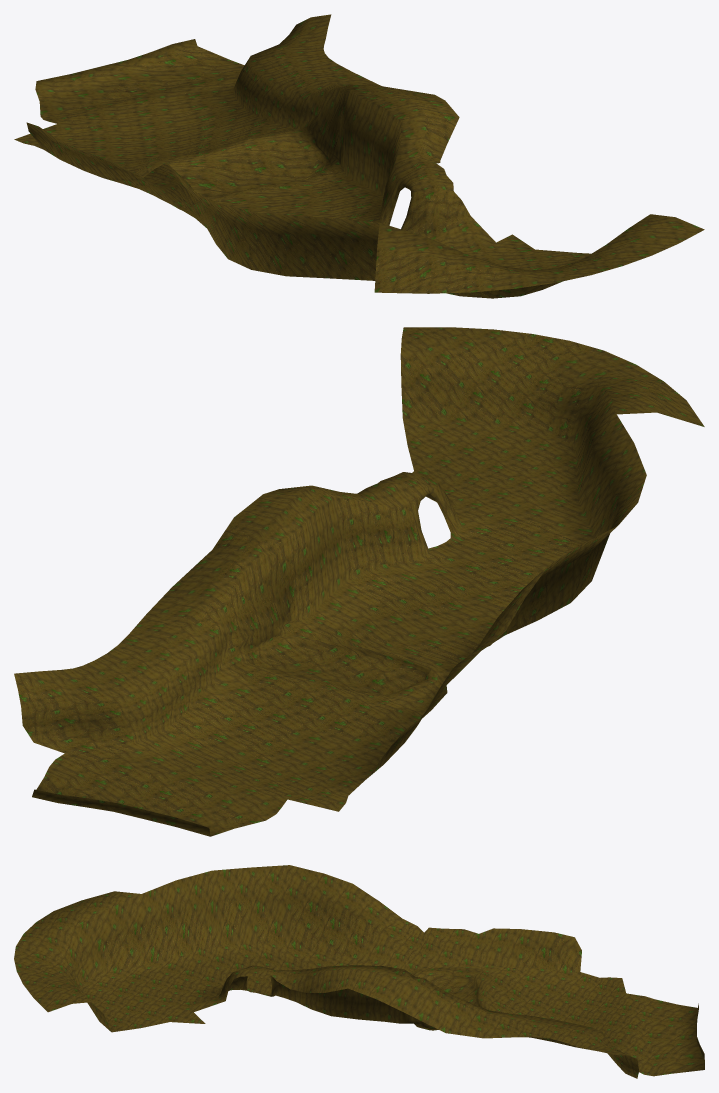
File: MIRKWOOD_AREA0-1.fbx
The picture shows the model from 3 angles, top to bottom: view 1: azimuth 30°, elevation 25°; view 2: azimuth 150°, elevation 25°; view 3: azimuth 270°, elevation 25°; orthographic projection. The views are drawn at different scales.
Visible parts, largest first — view 1: MIRKWOOD_AREA0-1; view 2: MIRKWOOD_AREA0-1; view 3: MIRKWOOD_AREA0-1.
Boxes of the visible parts, bbox=[...] form: MIRKWOOD_AREA0-1: bbox=[14, 14, 704, 298]; MIRKWOOD_AREA0-1: bbox=[14, 327, 704, 836]; MIRKWOOD_AREA0-1: bbox=[14, 865, 704, 1078].
Size of the model in its own units: 421606 by 154748 by 911285.
1 material, 1 textured.
